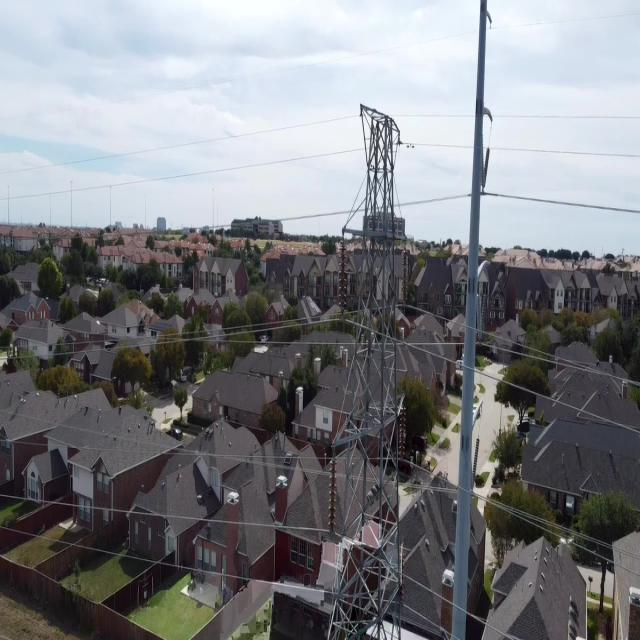杆塔: (322, 94, 415, 640)
正常电缆: (0, 464, 319, 542), (418, 339, 640, 440), (419, 302, 640, 393), (414, 571, 506, 640), (492, 185, 640, 219), (498, 143, 640, 164), (417, 188, 470, 208)
正常绝缘子: (334, 232, 350, 324), (326, 447, 339, 541), (398, 234, 411, 311), (396, 394, 407, 466), (399, 552, 406, 606)
